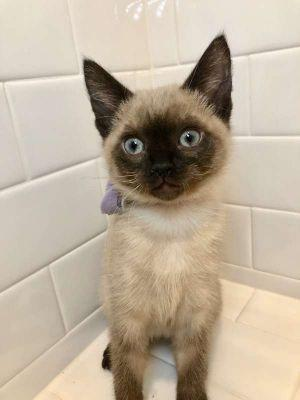siamese: (71, 30, 250, 217)
